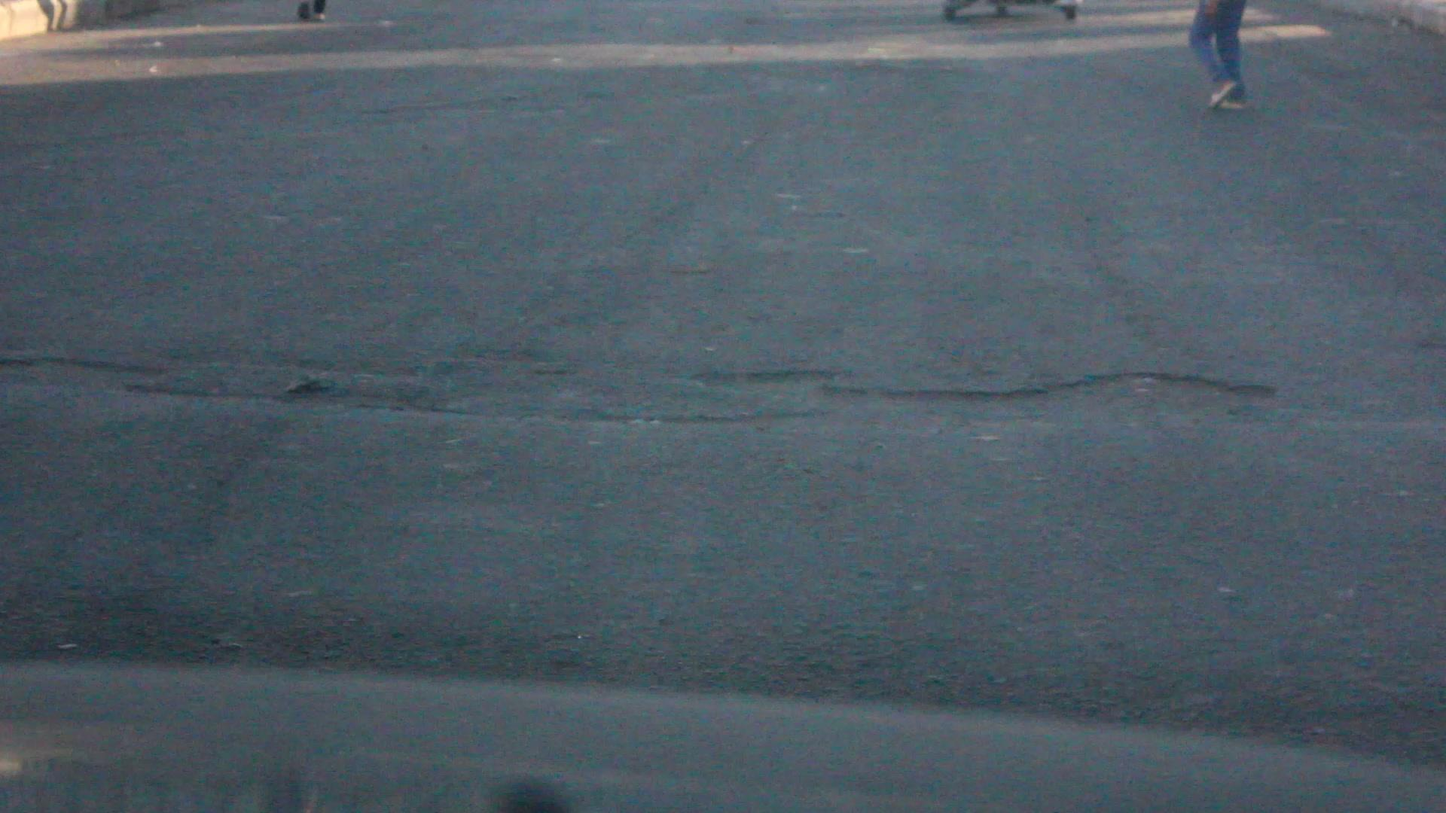Pothole: (15, 344, 1399, 437)
